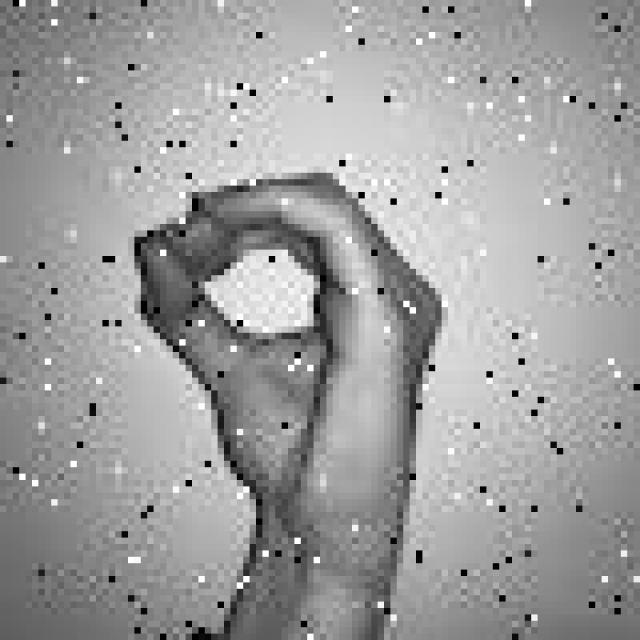O: (128, 160, 448, 512)
